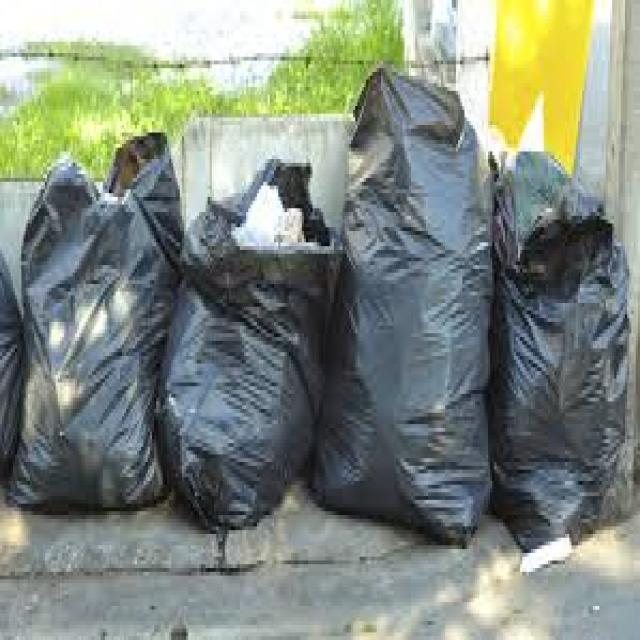garbage: (0, 136, 638, 526)
